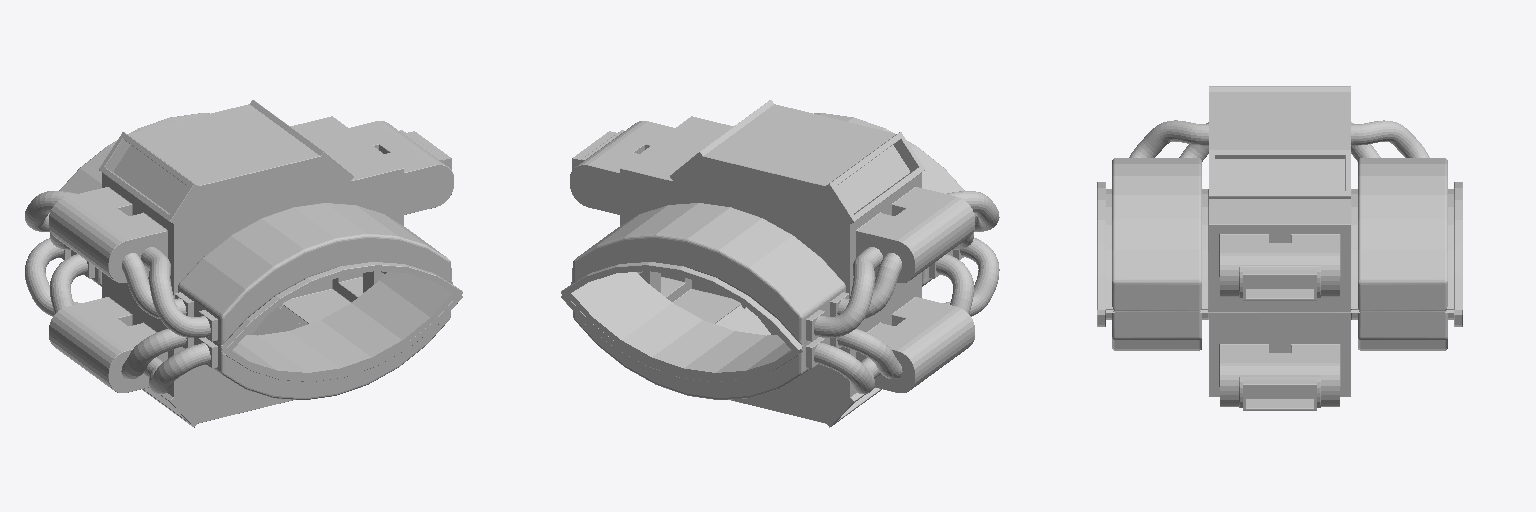
File: beam_head.obj
3 views of the same model, side by side, from view 1: azimuth 30°, elevation 25°; view 2: azimuth 150°, elevation 25°; view 3: azimuth 270°, elevation 25° (orthographic).
Visible parts, largest first — view 1: Cylinder.006; view 2: Cylinder.006; view 3: Cylinder.006.
Part boxes in pixels (x1,y1,x2,y2): Cylinder.006: (25,100,462,427); Cylinder.006: (561,100,999,427); Cylinder.006: (1097,86,1462,410).
Bounding box in the file's own units: 1.09 × 0.7181 × 0.9721.